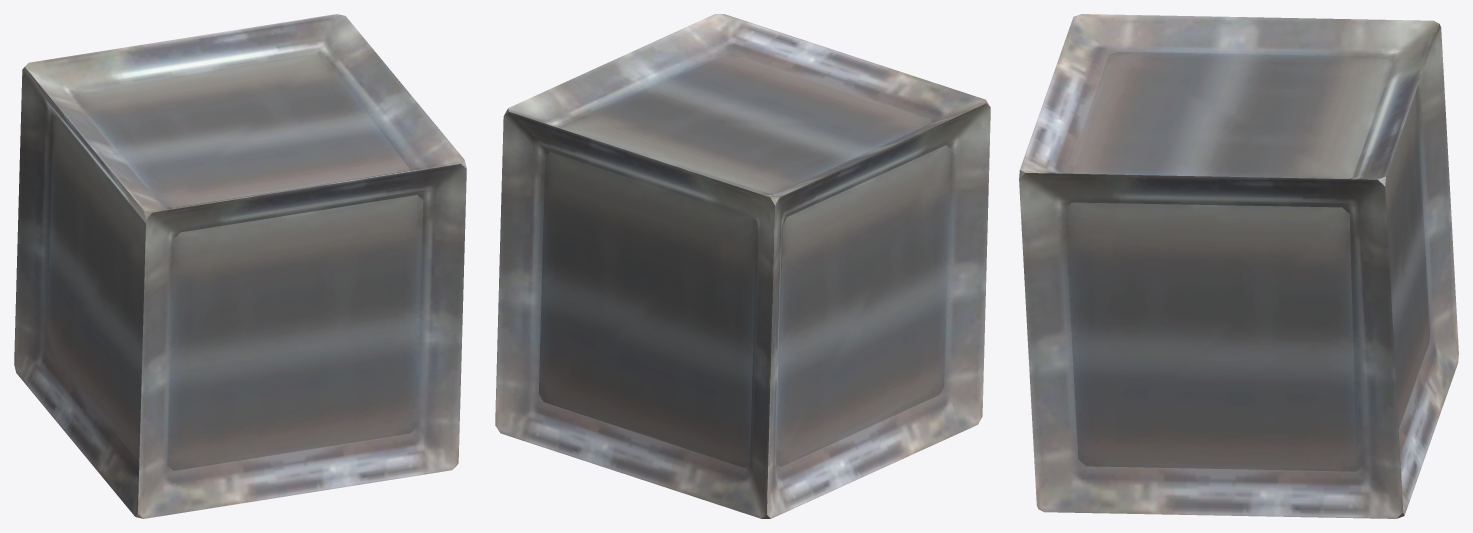
File: Psychic Container.dae
3 renders of one model, left to right at view 1: azimuth 30°, elevation 25°; view 2: azimuth 150°, elevation 25°; view 3: azimuth 270°, elevation 25°, orthographic. The views are drawn at different scales.
Visible parts, largest first — view 1: container; view 2: container; view 3: container.
Boxes of the visible parts, bbox=[...] form: container: bbox=[14, 14, 466, 518]; container: bbox=[495, 14, 990, 518]; container: bbox=[1019, 14, 1458, 518].
Size of the model in its own units: 1.03 by 0.96 by 1.07.
